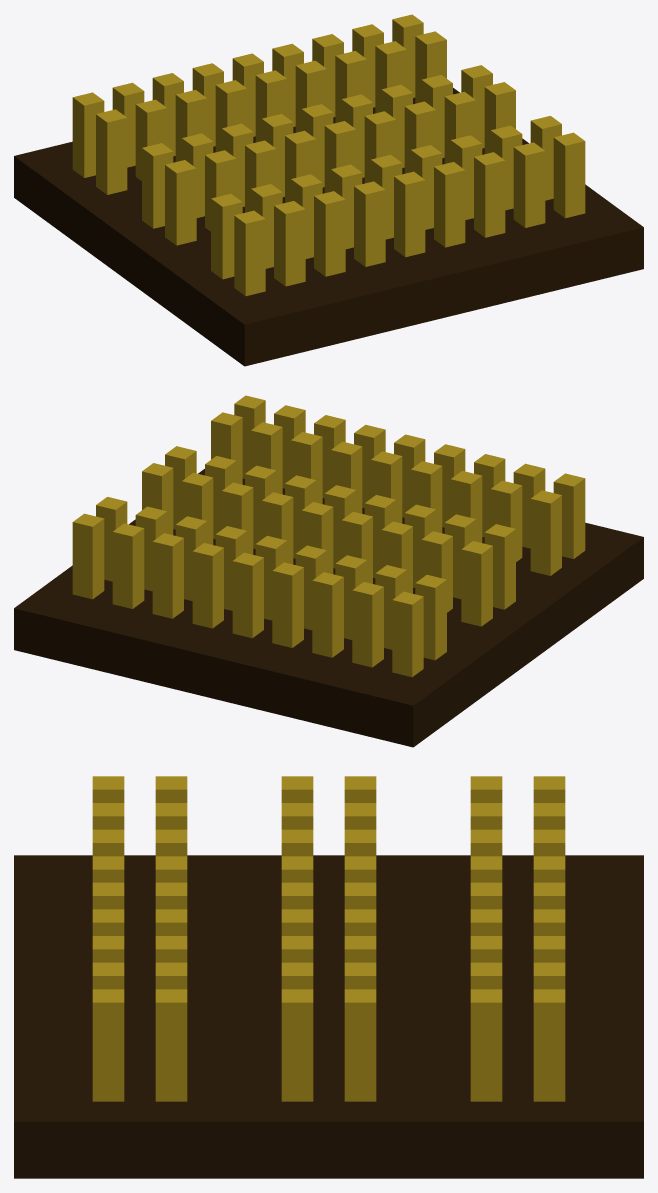
File: Crop3.obj
3 renders of one model, top to bottom at view 1: azimuth 30°, elevation 25°; view 2: azimuth 150°, elevation 25°; view 3: azimuth 270°, elevation 25°, orthographic. The views are drawn at different scales.
Parts seen in each view (by area): view 1: Box635, CropBare002; view 2: Box635, CropBare002; view 3: CropBare002, Box635.
Boxes of the visible parts, x1,y1,x2,y2 form: Box635: (72,14,585,296); CropBare002: (14,88,643,366); Box635: (72,395,585,677); CropBare002: (14,469,643,747); CropBare002: (14,855,643,1178); Box635: (92,776,565,1101).
Size of the model in its own units: 10 by 2.73 by 10.
